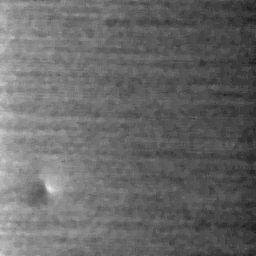dent: (24, 173, 63, 209)
